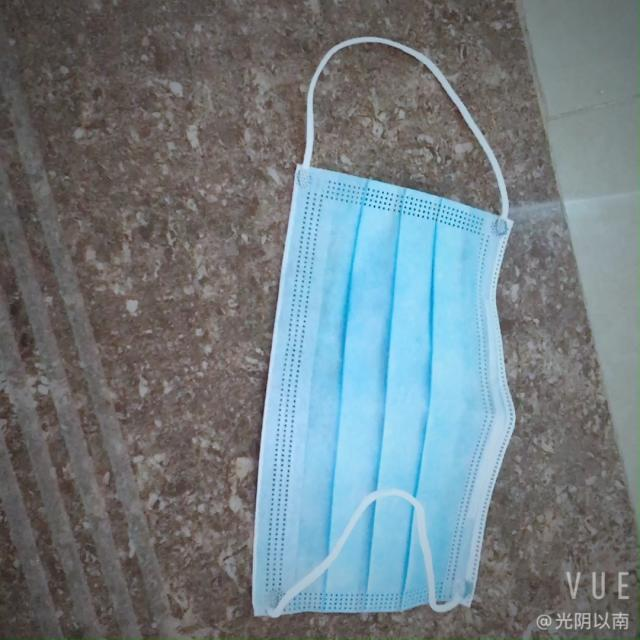face mask: (238, 158, 513, 619)
